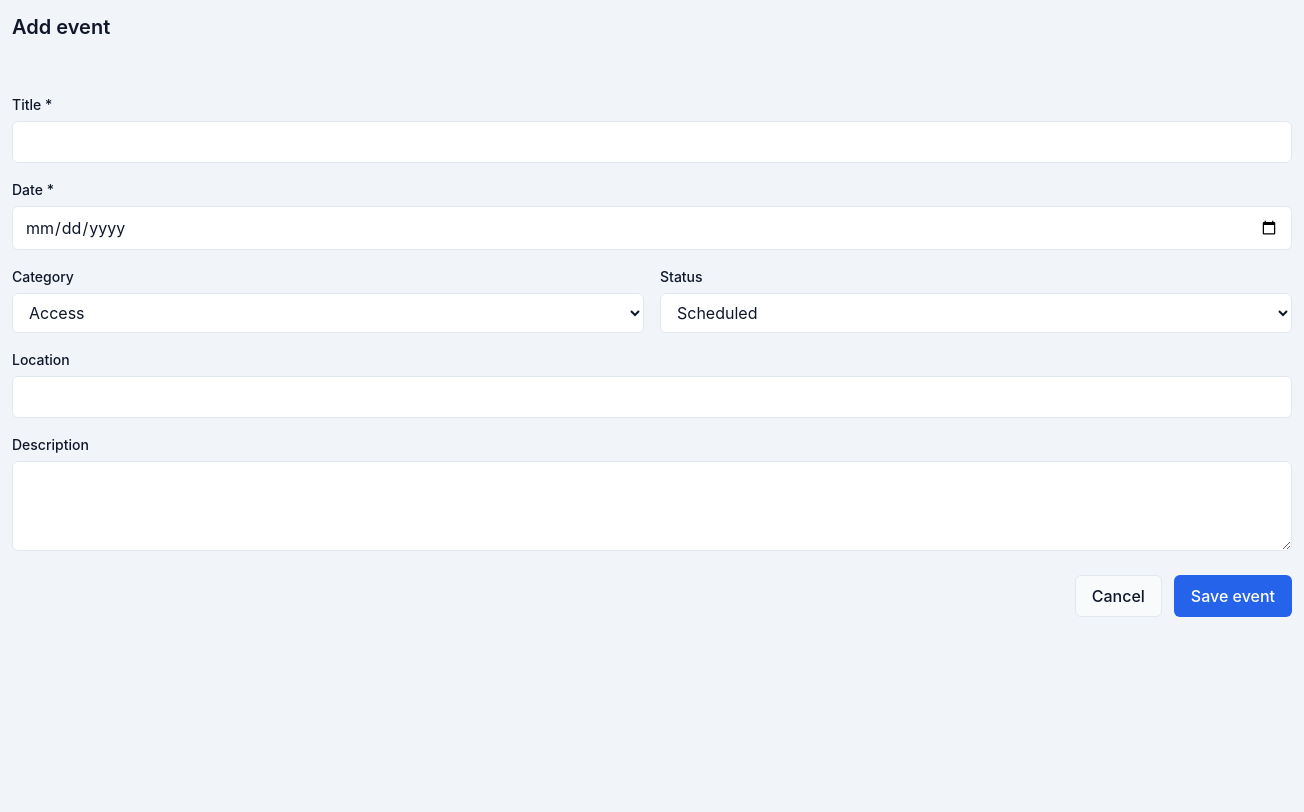
Test case: EventForm › shows date validation error when title is filled but date is missing
Type "Valid title" into the field labelled "Title *".
click(652, 142); type("Valid title")  # box [12,121,1292,163]
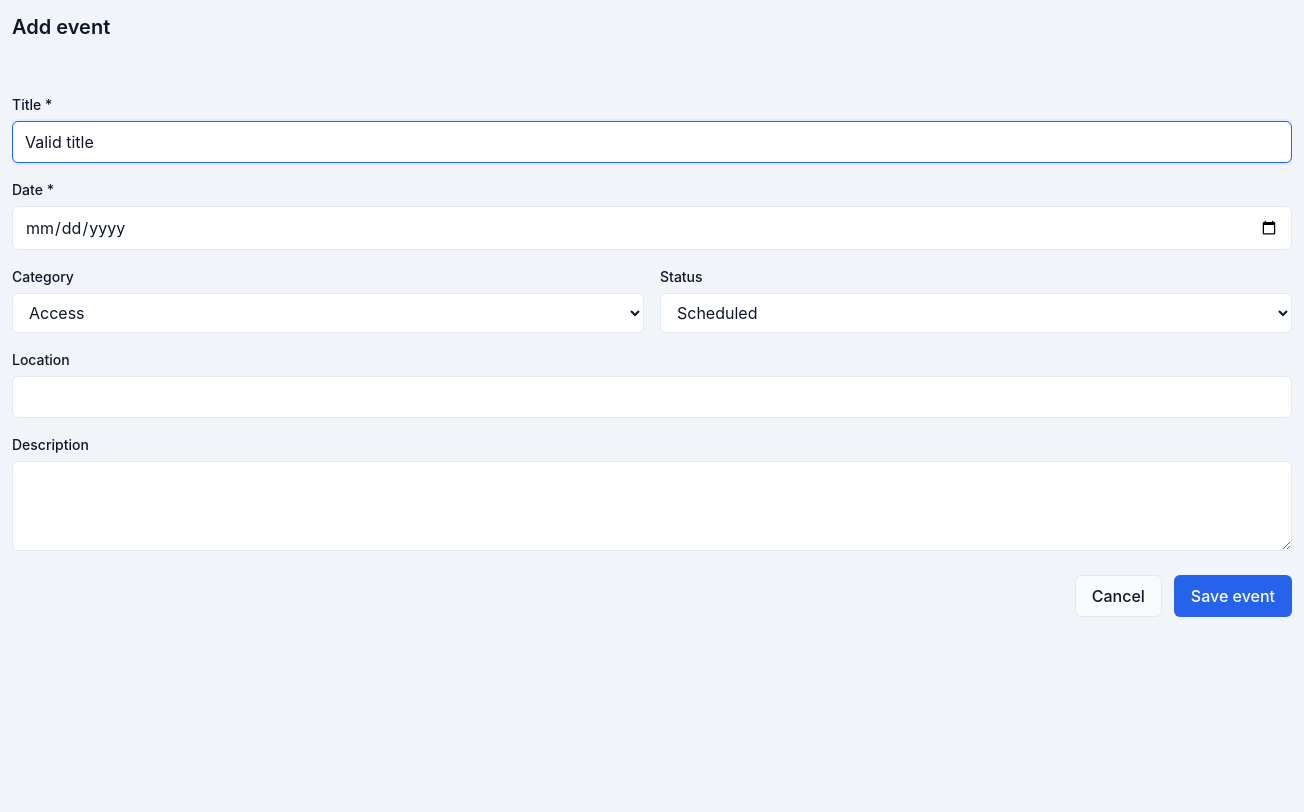
Click the button "Save event".
click(1233, 596)  # box [1174,575,1292,617]
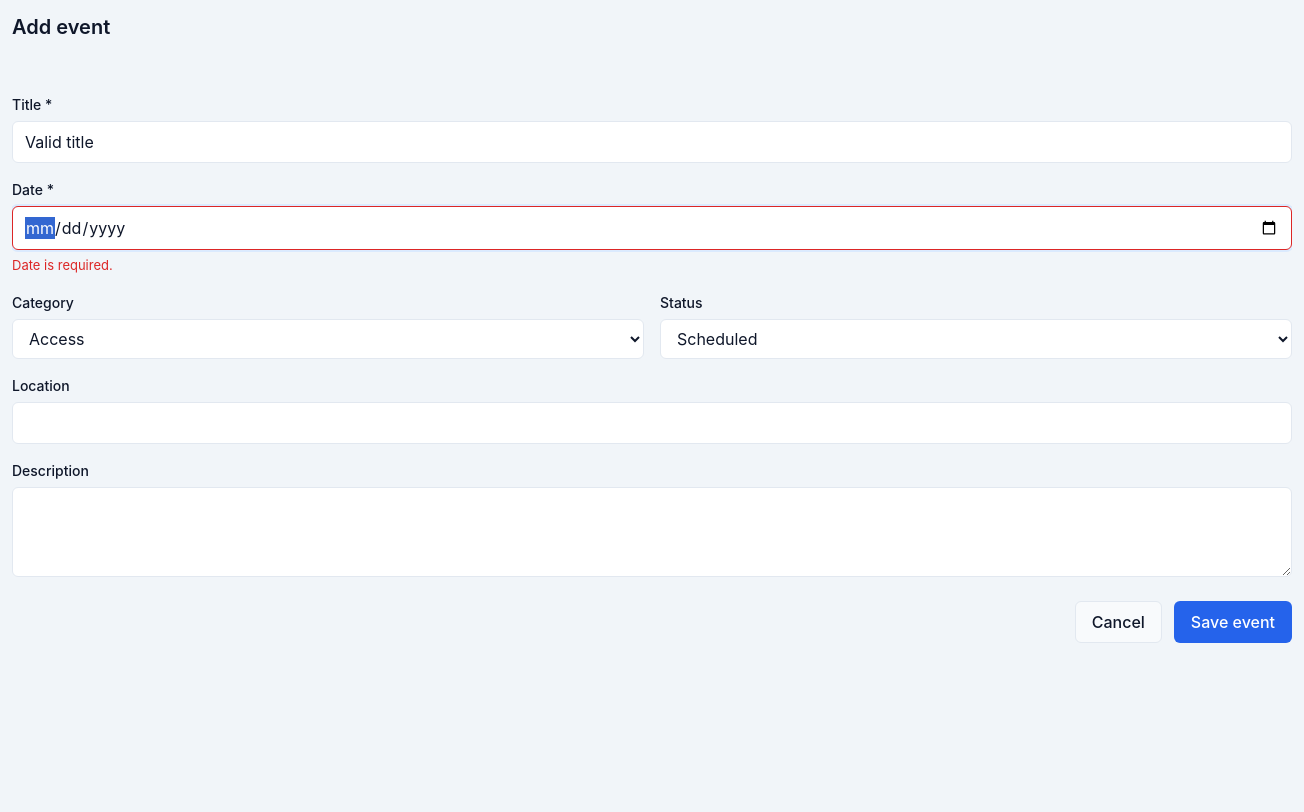
Now the text "Date is required." is shown, box [12,257,113,273]
